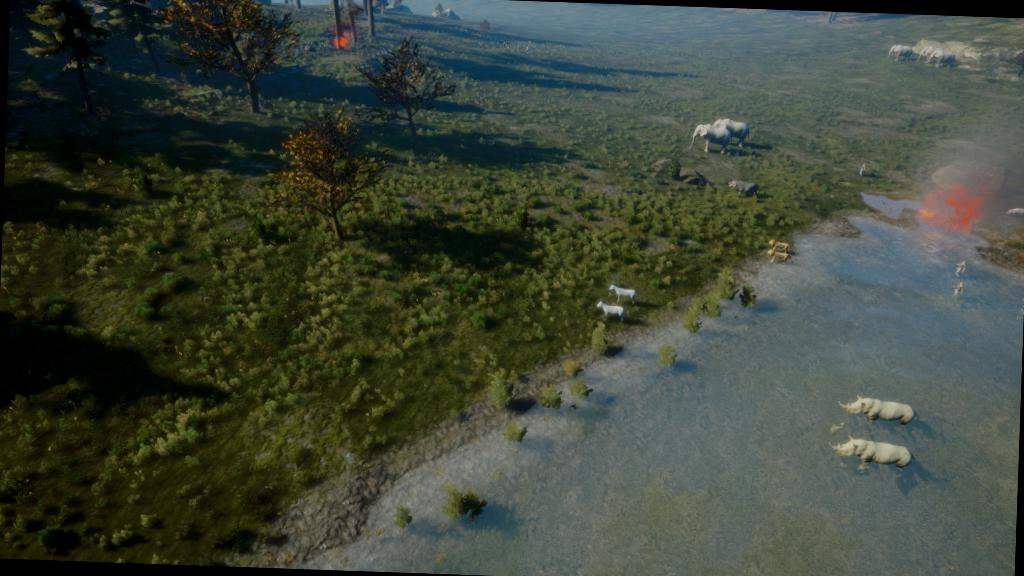Fire: (915, 184, 989, 236), (330, 29, 360, 52)
elephant: (684, 120, 732, 156), (709, 117, 753, 149), (924, 50, 960, 70), (883, 41, 914, 63), (915, 43, 943, 66)
hippopotamus: (725, 174, 761, 200)
human: (946, 277, 968, 306), (948, 255, 968, 279), (853, 159, 868, 178)
lion: (764, 247, 796, 270), (764, 234, 795, 255)
rhinoceros: (820, 429, 920, 483), (832, 390, 924, 434), (1003, 202, 1023, 222)
smoke: (921, 120, 1023, 234)
zebra: (590, 298, 632, 328), (606, 281, 640, 306)
